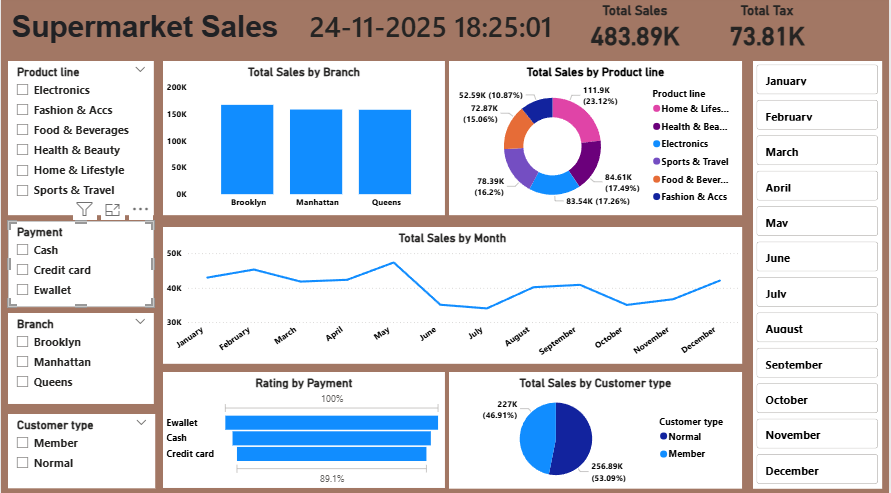

This screenshot's page, from the dashboard's own definition file:
{"tool":"powerbi","page":{"name":"Page 1","canvas":[1280,720],"ordinal":0},"visuals":[{"type":"textbox","box":[10.1,15.1,421.6,77.3],"z":0},{"type":"cardVisual","fields":{"Data":["Supermarket Sales 2.Today"]},"box":[414.9,5,409.9,75.6],"z":1},{"type":"card","title":"Total Sales","fields":{"Values":["Sum(Supermarket Sales 2.Total_Sales)"]},"box":[825.1,4.3,175.7,74.9],"z":2},{"type":"card","title":"Total Tax","fields":{"Values":["Sum(Supermarket Sales 2.Tax)"]},"box":[1015.2,4.3,175.7,74.9],"z":3},{"type":"slicer","fields":{"Values":["Supermarket Sales 2.Product line"]},"box":[10.1,93.6,210.2,221.8],"z":4},{"type":"slicer","fields":{"Values":["Supermarket Sales 2.Payment"]},"box":[10.1,324,210.2,123.8],"z":5},{"type":"slicer","fields":{"Values":["Supermarket Sales 2.Branch"]},"box":[10.1,456.5,210.2,131],"z":6},{"type":"slicer","fields":{"Values":["Supermarket Sales 2.Customer type"]},"box":[10.1,601.9,211.7,106.6],"z":7},{"type":"clusteredColumnChart","title":"Total Sales by Branch","fields":{"Category":["Supermarket Sales 2.Branch"],"Y":["Sum(Supermarket Sales 2.Total_Sales)"]},"box":[233.3,93.6,406.1,221.8],"z":8},{"type":"pieChart","title":"Total Sales by Customer type","fields":{"Category":["Supermarket Sales 2.Customer type"],"Y":["Sum(Supermarket Sales 2.Total_Sales)"]},"box":[645.1,541.4,421.9,168.5],"z":9},{"type":"advancedSlicerVisual","fields":{"Values":["Supermarket Sales 2.Date.Variation.Date Hierarchy.Month"]},"box":[1082.9,93.6,185.8,616.3],"z":10},{"type":"lineChart","title":"Total Sales by Month","fields":{"Category":["Supermarket Sales 2.Date.Variation.Date Hierarchy.Month","Supermarket Sales 2.Date.Variation.Date Hierarchy.Day"],"Y":["Sum(Supermarket Sales 2.Total_Sales)"]},"box":[233.3,332.6,833.8,197.3],"z":11},{"type":"funnel","title":"Rating by Payment","fields":{"Y":["Sum(Supermarket Sales 2.Rating)"],"Category":["Supermarket Sales 2.Payment"]},"box":[233.3,541.4,406.1,167],"z":12},{"type":"donutChart","title":"Total Sales by Product line","fields":{"Category":["Supermarket Sales 2.Product line"],"Y":["Sum(Supermarket Sales 2.Total_Sales)"]},"box":[645.1,93.6,421.9,221.8],"z":13}]}

Visuals, with their boxes in screenshot pixels (x1, y1, x2, y2), scaled from the page's 1280x720 canvas onto the 891x493 screenshot:
textbox: bbox(7, 10, 301, 63)
cardVisual - Supermarket Sales 2.Today: bbox(289, 3, 574, 55)
"Total Sales" card: bbox(574, 3, 697, 54)
"Total Tax" card: bbox(707, 3, 829, 54)
slicer - Supermarket Sales 2.Product line: bbox(7, 64, 153, 216)
slicer - Supermarket Sales 2.Payment: bbox(7, 222, 153, 307)
slicer - Supermarket Sales 2.Branch: bbox(7, 313, 153, 402)
slicer - Supermarket Sales 2.Customer type: bbox(7, 412, 154, 485)
"Total Sales by Branch" clusteredColumnChart: bbox(162, 64, 445, 216)
"Total Sales by Customer type" pieChart: bbox(449, 371, 743, 486)
advancedSlicerVisual - Supermarket Sales 2.Date.Variation.Date Hierarchy.Month: bbox(754, 64, 883, 486)
"Total Sales by Month" lineChart: bbox(162, 228, 743, 363)
"Rating by Payment" funnel: bbox(162, 371, 445, 485)
"Total Sales by Product line" donutChart: bbox(449, 64, 743, 216)
